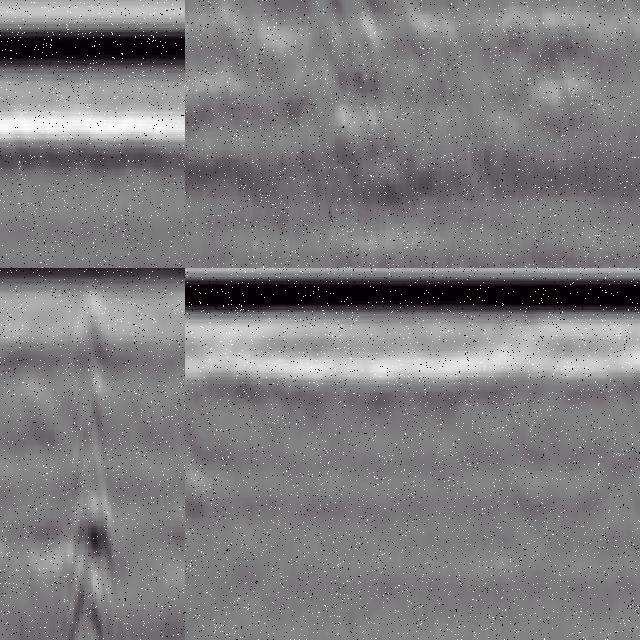crack: (71, 284, 114, 640)
